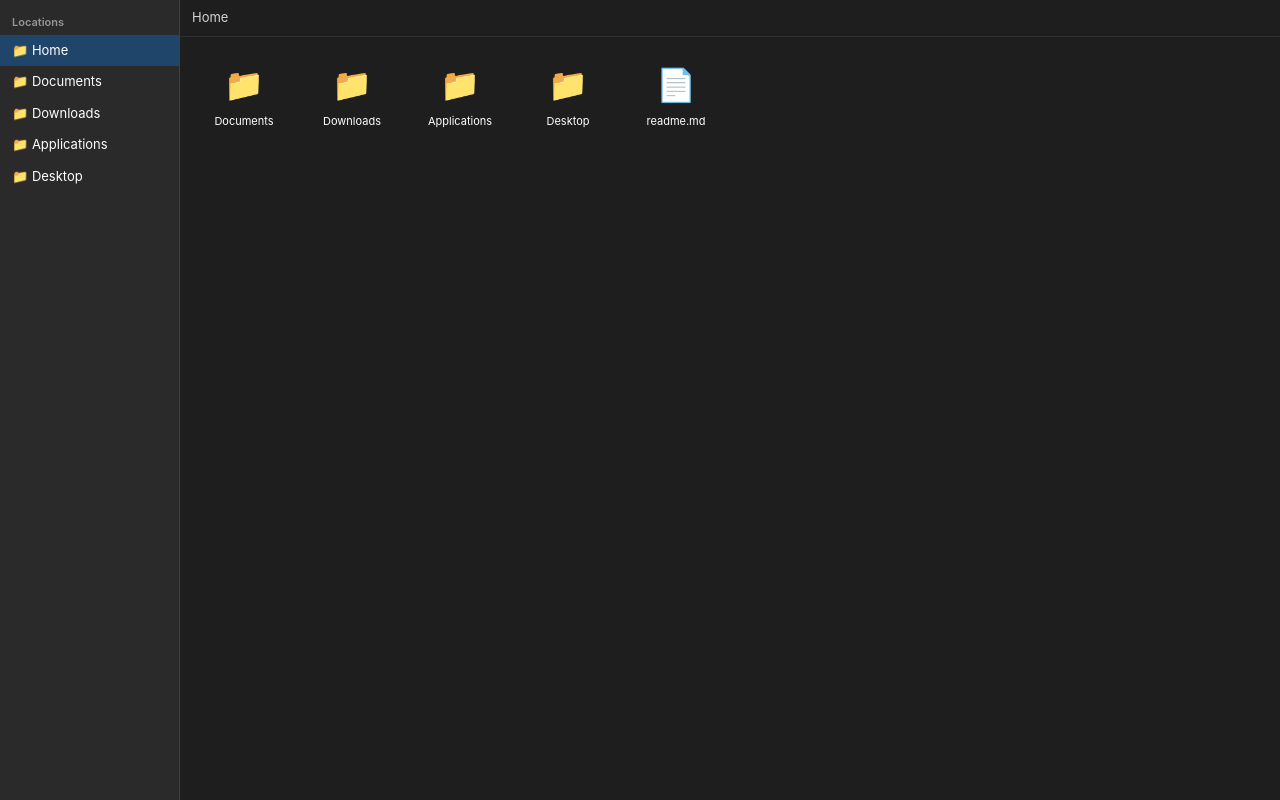
Finder › navigates back to Home via sidebar
The image size is (1280, 800).
# Go into Documents
Click the text with test id "finder-location-documents": (57, 81) [12,73,102,89]
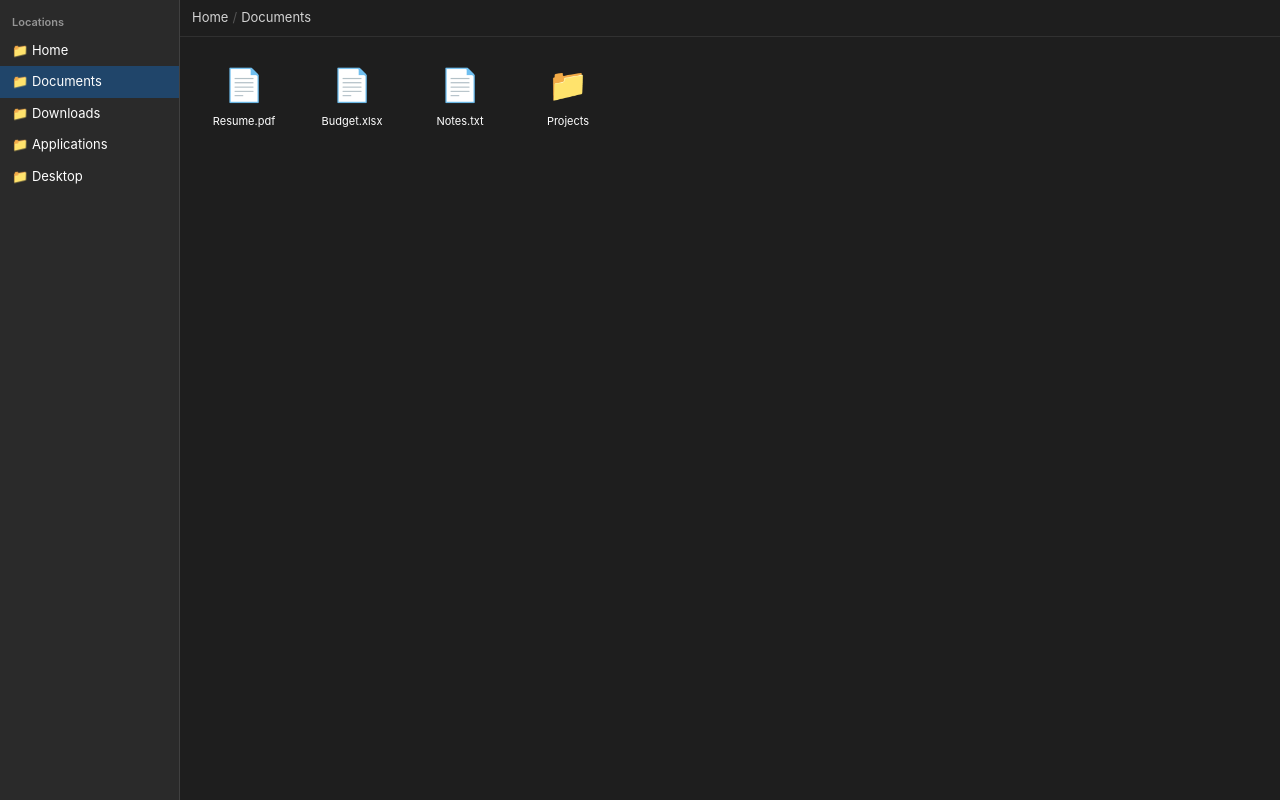
Expected: the element with test id "finder-item-Resume-pdf" is shown, [213,64,275,128]
# Go back to Home
Click the text with test id "finder-location-home": (40, 50) [12,42,68,58]
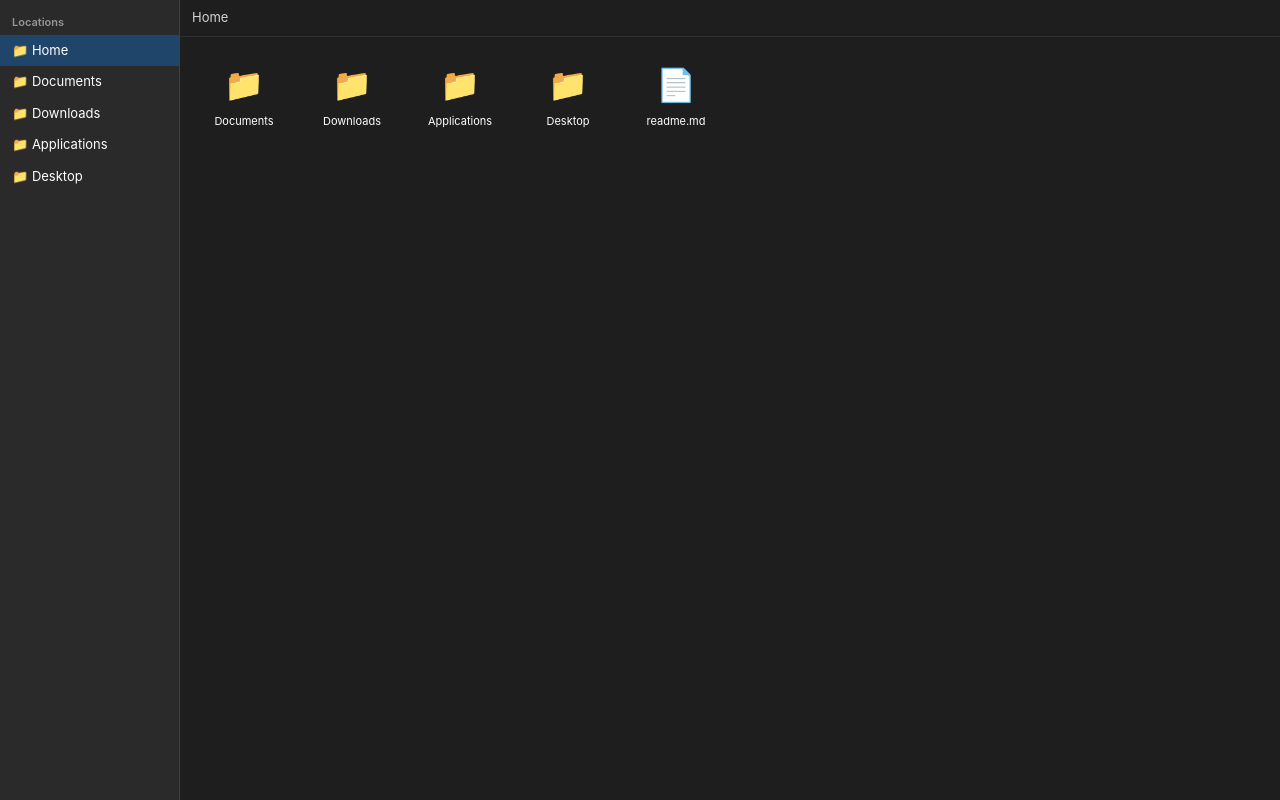
Expected: the element with test id "finder-item-Documents" is shown, [214,64,274,128]
Expected: the element with test id "finder-item-Downloads" is shown, [323,64,381,128]
Expected: the element with test id "finder-item-Resume-pdf" is gone
